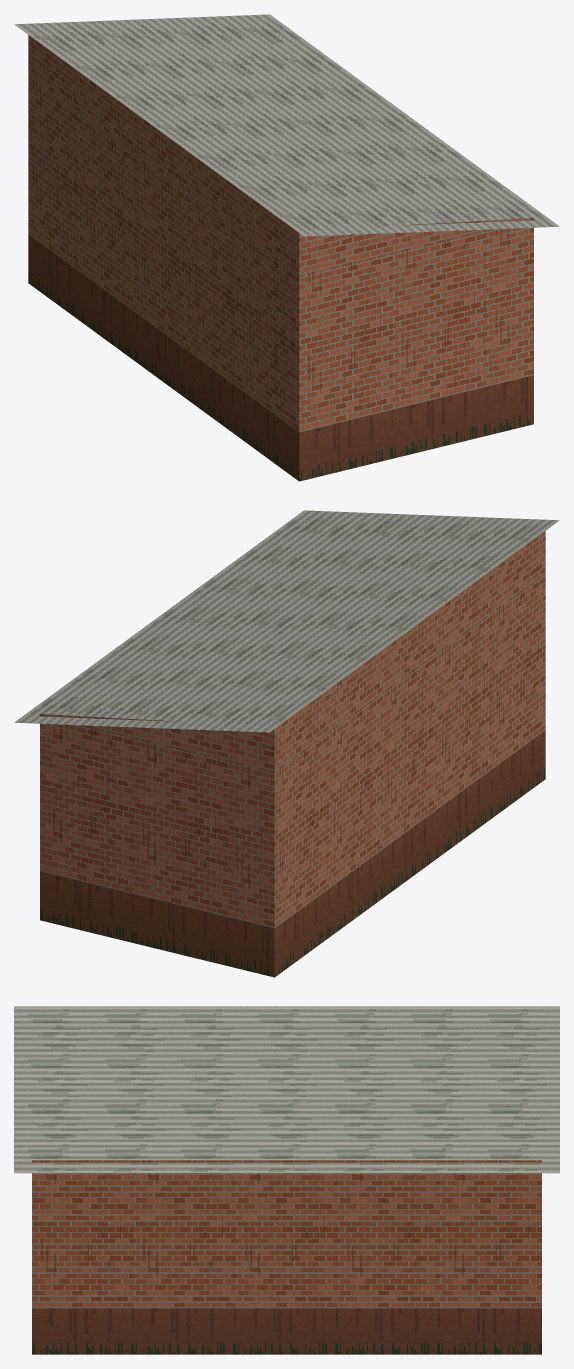
File: bloco_2_tijolo_fibro.glb
3 renders of one model, top to bottom at view 1: azimuth 30°, elevation 25°; view 2: azimuth 150°, elevation 25°; view 3: azimuth 270°, elevation 25°, orthographic. The views are drawn at different scales.
Visible parts, largest first — view 1: paredes-col, telhado; view 2: paredes-col, telhado; view 3: paredes-col, telhado.
Boxes of the visible parts, x1=… form: paredes-col: x1=28, y1=35, x2=533, y2=481; telhado: x1=14, y1=14, x2=559, y2=236; paredes-col: x1=40, y1=531, x2=545, y2=977; telhado: x1=14, y1=510, x2=559, y2=732; paredes-col: x1=32, y1=1160, x2=541, y2=1354; telhado: x1=14, y1=1006, x2=559, y2=1173.
Bounding box in the file's own units: 5.45 × 5.15 × 10.7.
Materials: 3 (3 with a texture image).
